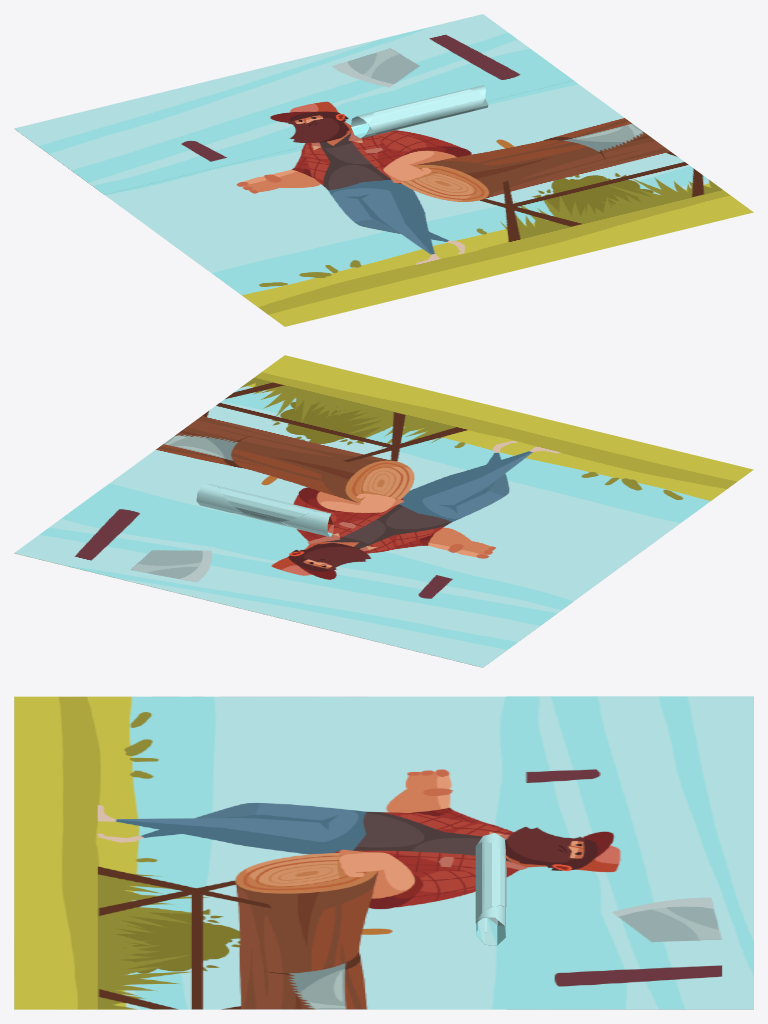
3 renders of one model, top to bottom at view 1: azimuth 30°, elevation 25°; view 2: azimuth 150°, elevation 25°; view 3: azimuth 270°, elevation 25°, orthographic. The views are drawn at different scales.
Visible parts, largest first — view 1: Mesh, Blend, Blend2; view 2: Mesh, Blend, Blend2; view 3: Mesh, Blend, Blend2.
Boxes of the visible parts, x1,y1,x2,y2 form: Mesh: (105, 80, 753, 326); Blend: (14, 14, 573, 194); Blend2: (351, 85, 488, 138); Mesh: (105, 355, 753, 601); Blend: (14, 487, 573, 667); Blend2: (196, 484, 333, 536); Mesh: (14, 696, 506, 1009); Blend: (506, 696, 753, 1009); Blend2: (475, 833, 506, 945).
Size of the model in its own units: 2400 by 107 by 2400.
